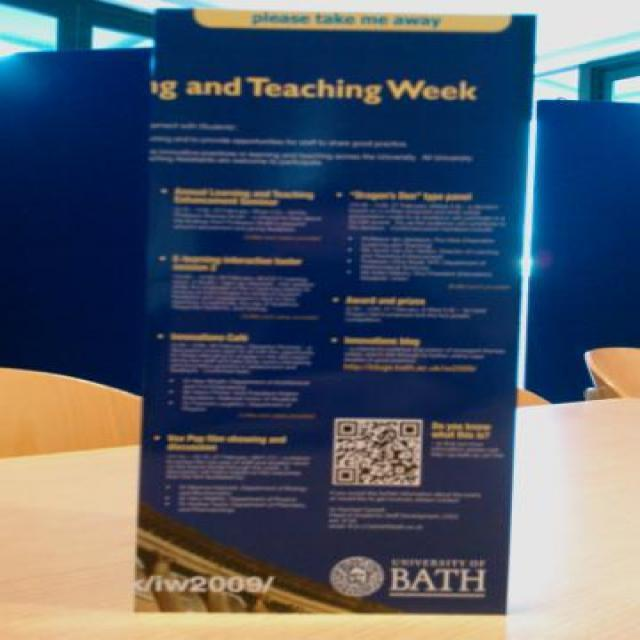qr_code: (336, 421, 419, 483)
